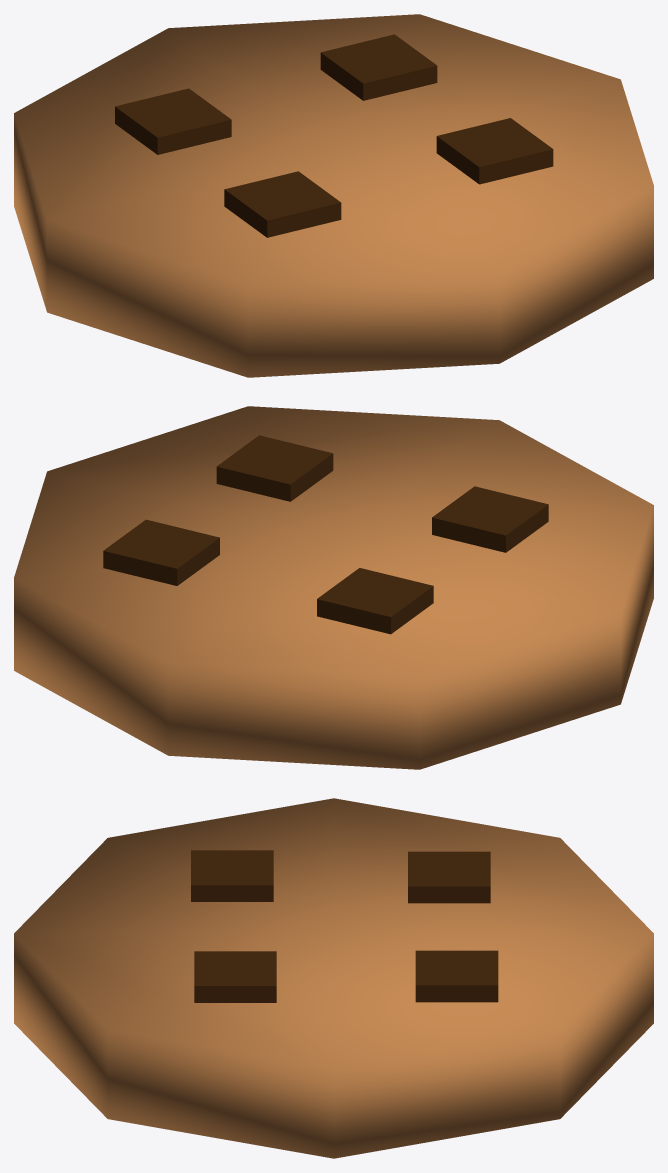
File: Cookie.fbx
3 renders of one model, top to bottom at view 1: azimuth 30°, elevation 25°; view 2: azimuth 150°, elevation 25°; view 3: azimuth 270°, elevation 25°, orthographic. The views are drawn at different scales.
Parts seen in each view (by area): view 1: Cube; view 2: Cube; view 3: Cube.
Part boxes in pixels (x1,y1,x2,y2): Cube: (14, 14, 653, 377); Cube: (14, 406, 653, 769); Cube: (14, 798, 653, 1158).
Size of the model in its own units: 1.32 by 1.32 by 0.2422.
